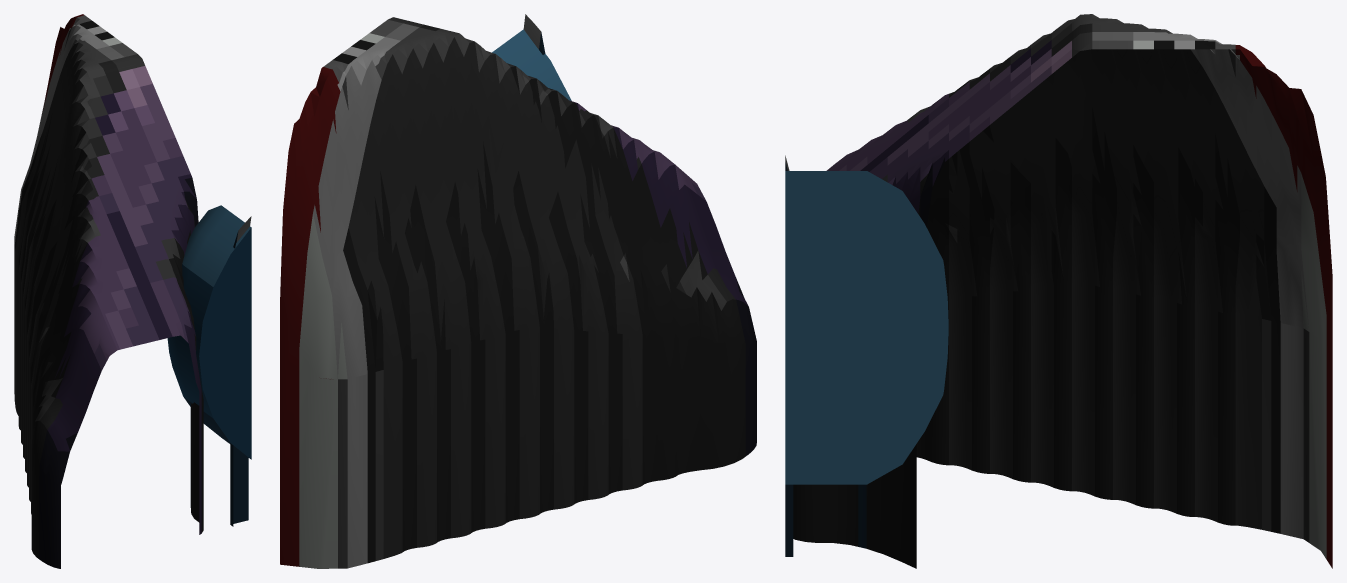
The model's file is camanis_boss_12.glb.
The picture shows the model from 3 angles, left to right: view 1: azimuth 30°, elevation 25°; view 2: azimuth 150°, elevation 25°; view 3: azimuth 270°, elevation 25°; orthographic projection. The views are drawn at different scales.
Parts seen in each view (by area): view 1: camanis_boss_12_hood, camanis_boss_12_tank, camanis_boss_12_tank_plate; view 2: camanis_boss_12_hood, camanis_boss_12_tank; view 3: camanis_boss_12_hood, camanis_boss_12_tank, camanis_boss_12_tank_plate.
Boxes of the visible parts, x1=… form: camanis_boss_12_hood: x1=14, y1=14, x2=203, y2=568; camanis_boss_12_tank: x1=167, y1=205, x2=251, y2=459; camanis_boss_12_tank_plate: x1=230, y1=216, x2=251, y2=526; camanis_boss_12_hood: x1=280, y1=17, x2=756, y2=568; camanis_boss_12_tank: x1=492, y1=29, x2=571, y2=100; camanis_boss_12_hood: x1=793, y1=14, x2=1332, y2=568; camanis_boss_12_tank: x1=785, y1=171, x2=948, y2=484; camanis_boss_12_tank_plate: x1=785, y1=155, x2=793, y2=556.
Bounding box in the file's own units: 14.99 × 28 × 26.71.
